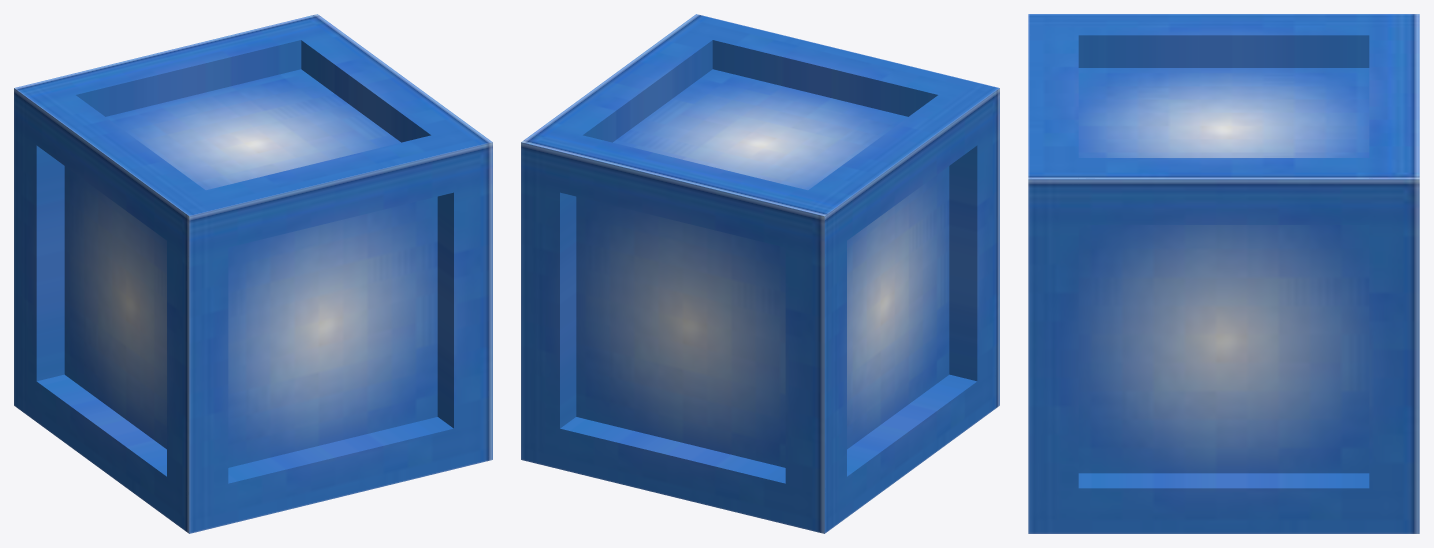
File: blue_box.FBX
3 views of the same model, side by side, from view 1: azimuth 30°, elevation 25°; view 2: azimuth 150°, elevation 25°; view 3: azimuth 270°, elevation 25° (orthographic). The views are drawn at different scales.
Visible parts, largest first — view 1: Box01; view 2: Box01; view 3: Box01.
Boxes of the visible parts, x1=… form: Box01: x1=14, y1=14, x2=492, y2=533; Box01: x1=521, y1=14, x2=999, y2=533; Box01: x1=1028, y1=14, x2=1419, y2=533.
Size of the model in its own units: 25 by 25 by 25.
Materials: 1 (1 with a texture image).
